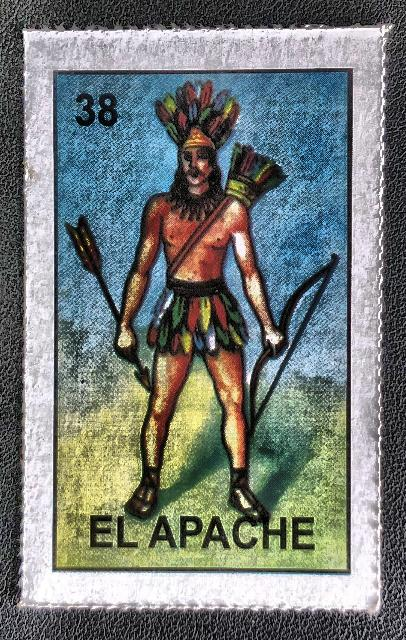El Apache: (37, 45, 366, 598)
